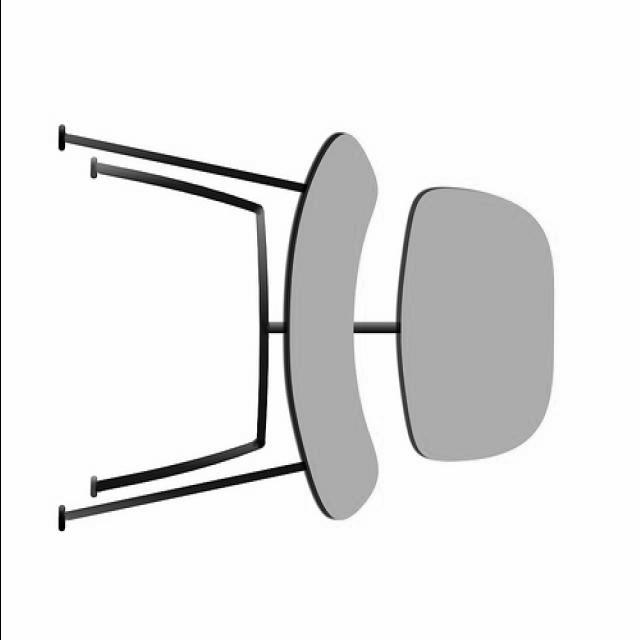chair: (58, 122, 554, 532)
